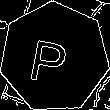P_N: (32, 29, 77, 85)
